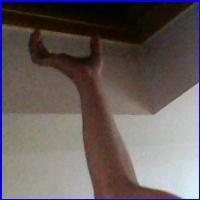space: (22, 27, 115, 82)
